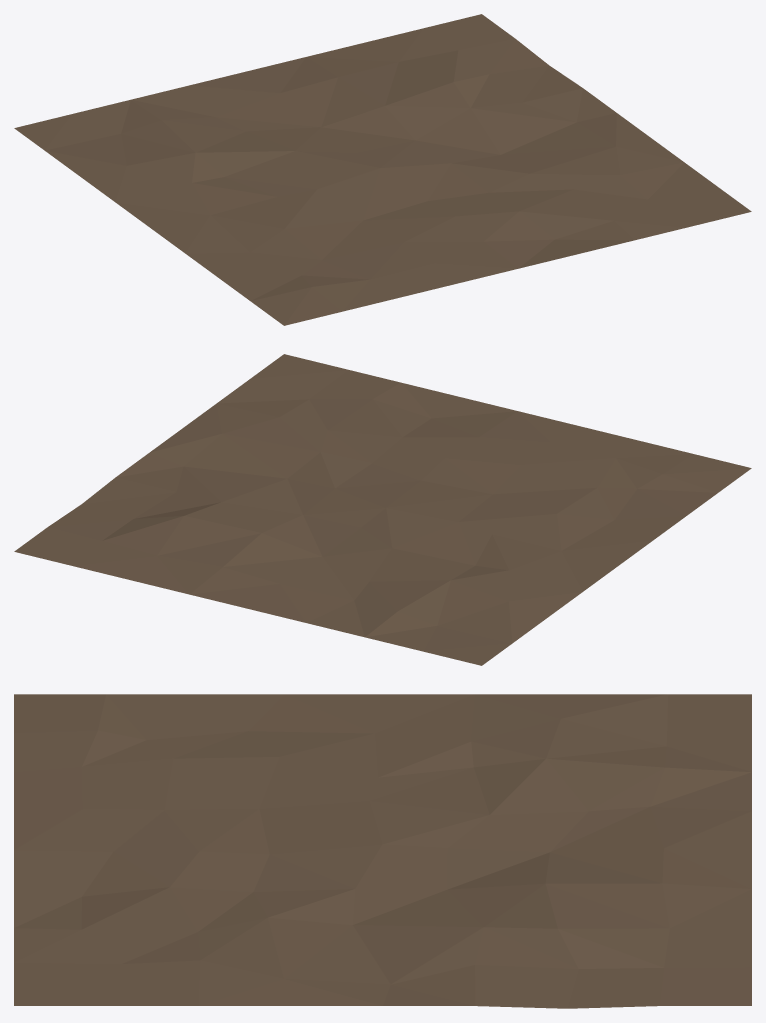
File: ground-dirt.glb
The picture shows the model from 3 angles, top to bottom: view 1: azimuth 30°, elevation 25°; view 2: azimuth 150°, elevation 25°; view 3: azimuth 270°, elevation 25°; orthographic projection. The views are drawn at different scales.
Visible parts, largest first — view 1: SM_Env_Ground_Dirt_Flat_01; view 2: SM_Env_Ground_Dirt_Flat_01; view 3: SM_Env_Ground_Dirt_Flat_01.
Part boxes in pixels (x1,y1,x2,y2): SM_Env_Ground_Dirt_Flat_01: (14,14,751,325); SM_Env_Ground_Dirt_Flat_01: (14,354,751,665); SM_Env_Ground_Dirt_Flat_01: (14,694,751,1008).
Bounding box in the file's own units: 500 × 12.48 × 500.
1 material, 1 textured.
